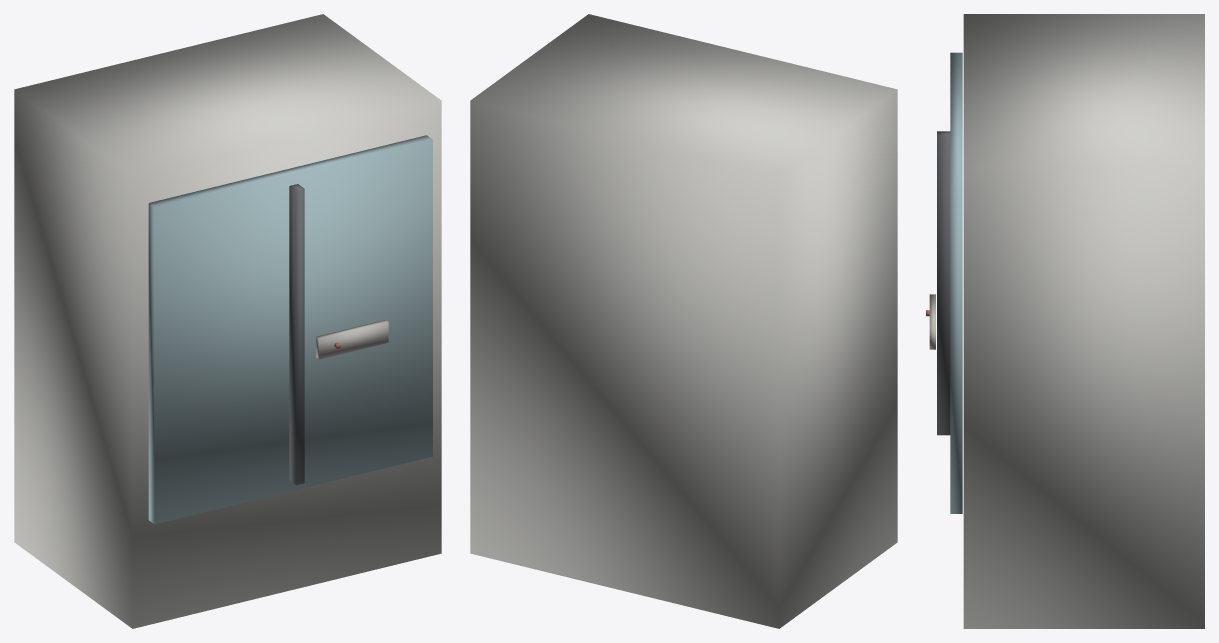
File: refrigerated_display_case__deep.glb
3 renders of one model, left to right at view 1: azimuth 30°, elevation 25°; view 2: azimuth 150°, elevation 25°; view 3: azimuth 270°, elevation 25°, orthographic.
Parts seen in each view (by area): view 1: world; view 2: world; view 3: world.
Part boxes in pixels (x1,y1,x2,y2): world: [14, 14, 441, 628]; world: [470, 14, 897, 628]; world: [926, 14, 1204, 628].
Size of the model in its own units: 1.25 by 1.75 by 0.9589.
